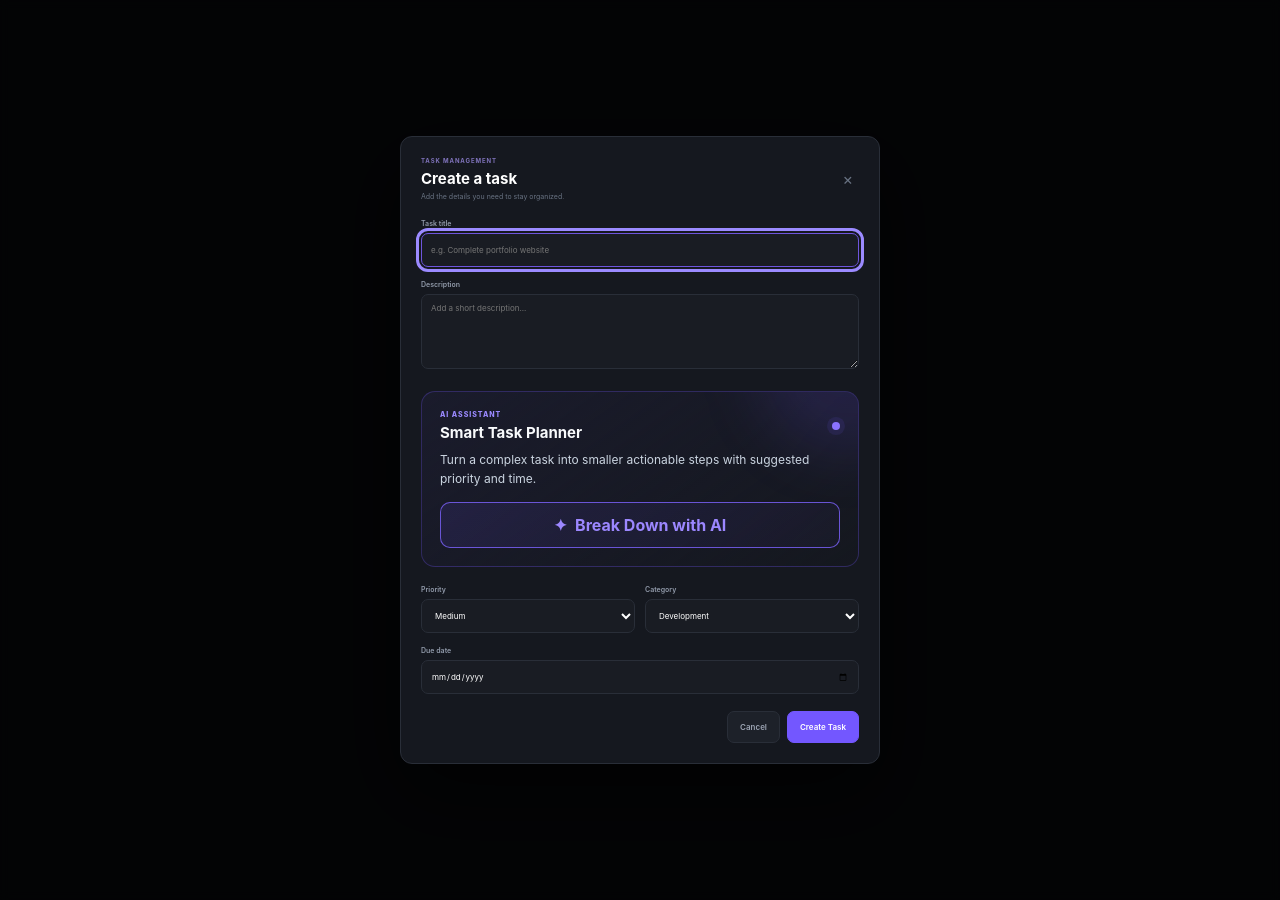
Test: TaskModal › shows API error safely when AI request fails
Type "Prepare portfolio" into the field labelled "Task title" at [640, 250], box 421,233 -> 859,267
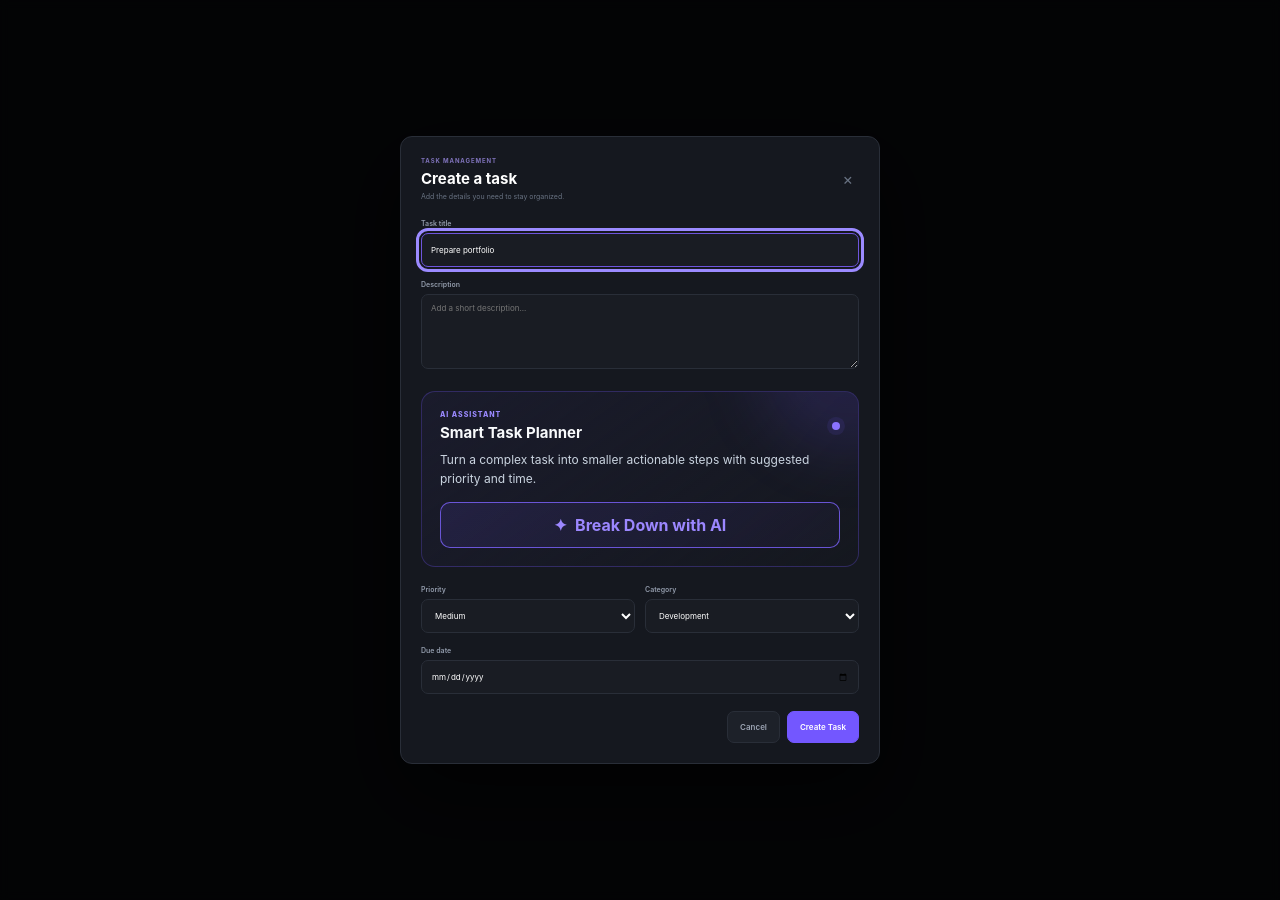
Click the button "✦ Break Down with AI" at [640, 525], box 440,502 -> 840,548
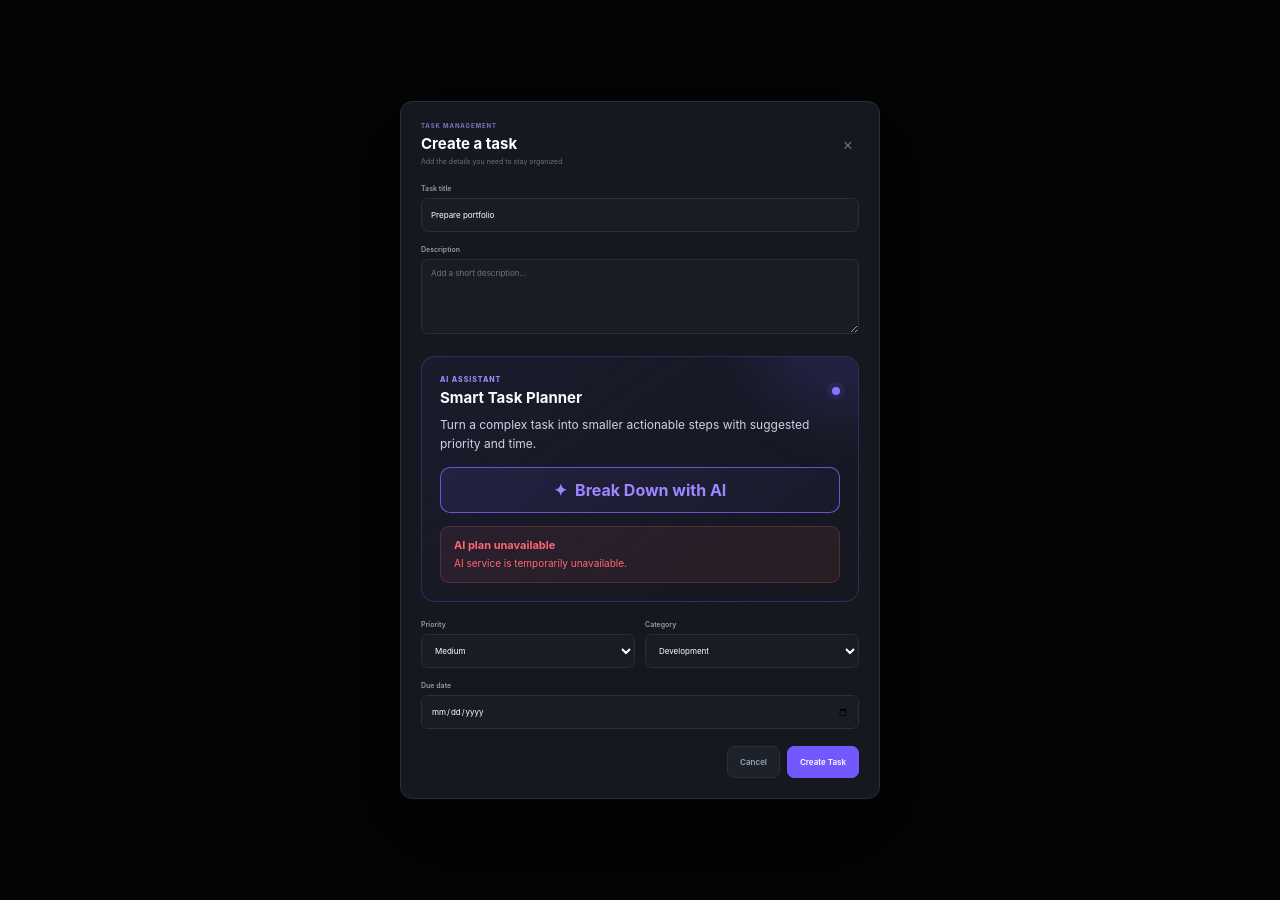
Expected: the message shows "AI plan unavailable", 454,538 -> 555,552
Expected: the message shows "AI service is temporarily unavailable.", 454,557 -> 627,569
